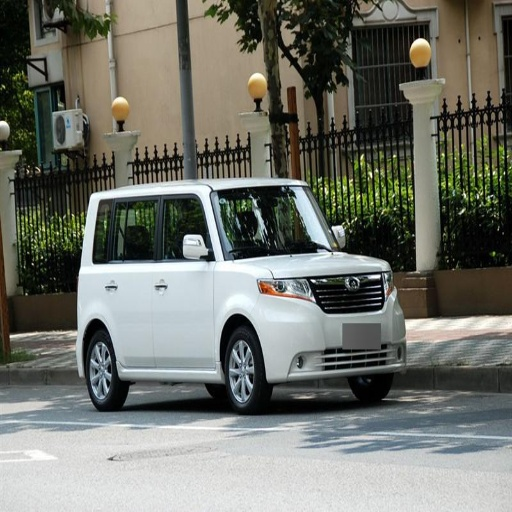front_bumper: (262, 276, 407, 382)
front_right_door: (153, 196, 210, 366)
trunk: (220, 261, 267, 312)
